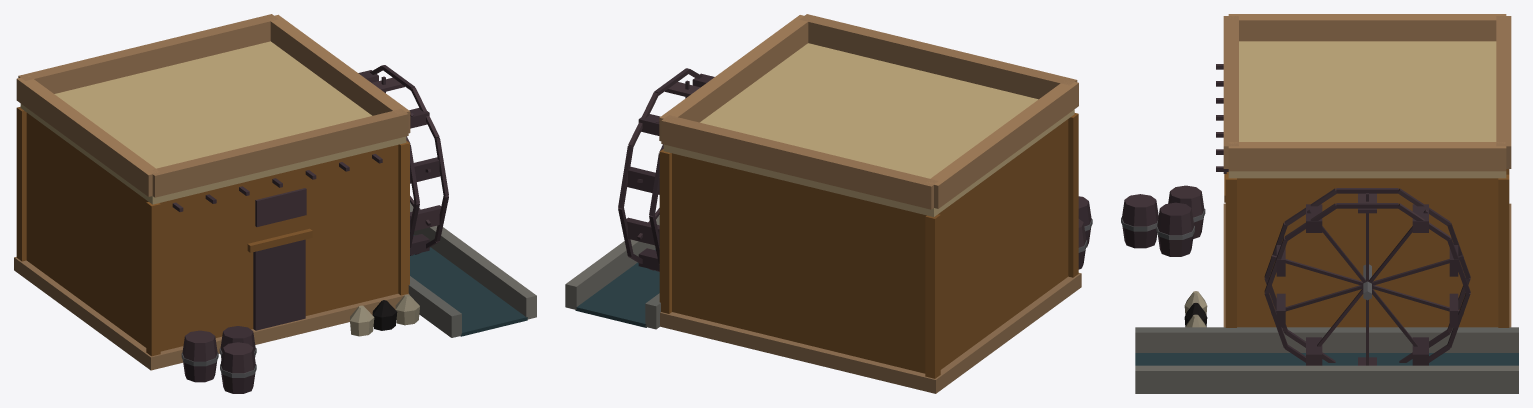
File: walk_hive_mill.glb
3 renders of one model, left to right at view 1: azimuth 30°, elevation 25°; view 2: azimuth 150°, elevation 25°; view 3: azimuth 270°, elevation 25°, orthographic. The views are drawn at different scales.
Parts seen in each view (by area): view 1: walk_hive_mill, walk_hive_mill_roof; view 2: walk_hive_mill, walk_hive_mill_roof; view 3: walk_hive_mill, walk_hive_mill_roof.
Part boxes in pixels (box(x1,y1,x2,y2)): walk_hive_mill: box(14, 65, 536, 393); walk_hive_mill_roof: box(16, 14, 410, 204); walk_hive_mill: box(565, 68, 1092, 393); walk_hive_mill_roof: box(659, 14, 1078, 216); walk_hive_mill: box(1121, 64, 1518, 393); walk_hive_mill_roof: box(1223, 14, 1511, 178).
Size of what is drawn, in the model's own units: 8.28 by 4.55 by 7.88.
2 materials, 2 textured.
